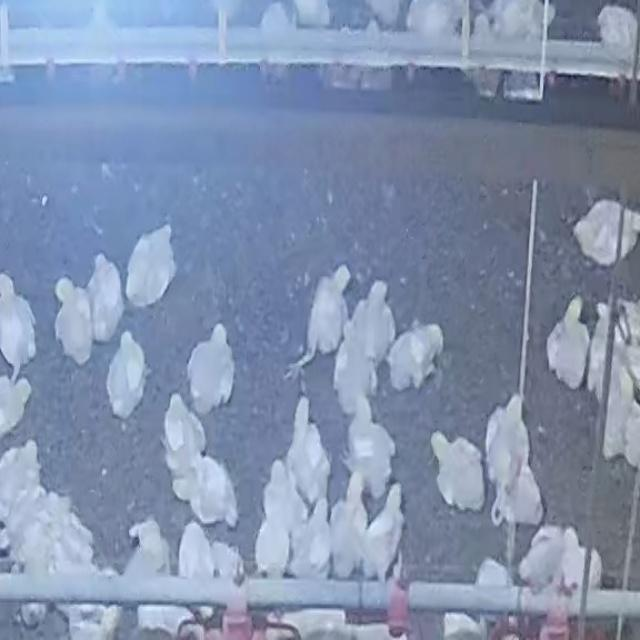chicken: (485, 397, 542, 526), (340, 396, 396, 503), (299, 264, 350, 360), (285, 396, 329, 506), (572, 198, 639, 270), (430, 430, 486, 513), (362, 479, 406, 582), (126, 218, 178, 305), (544, 298, 590, 392), (185, 321, 235, 406), (600, 360, 639, 464), (0, 273, 38, 379), (190, 453, 243, 529), (332, 324, 375, 417), (386, 322, 442, 392), (585, 302, 626, 397), (175, 522, 215, 619), (328, 478, 366, 580), (350, 276, 394, 360), (294, 493, 334, 579), (105, 330, 145, 415), (162, 391, 205, 468), (52, 278, 91, 362), (89, 250, 125, 338), (260, 457, 298, 536), (0, 442, 37, 514), (523, 526, 567, 582)
